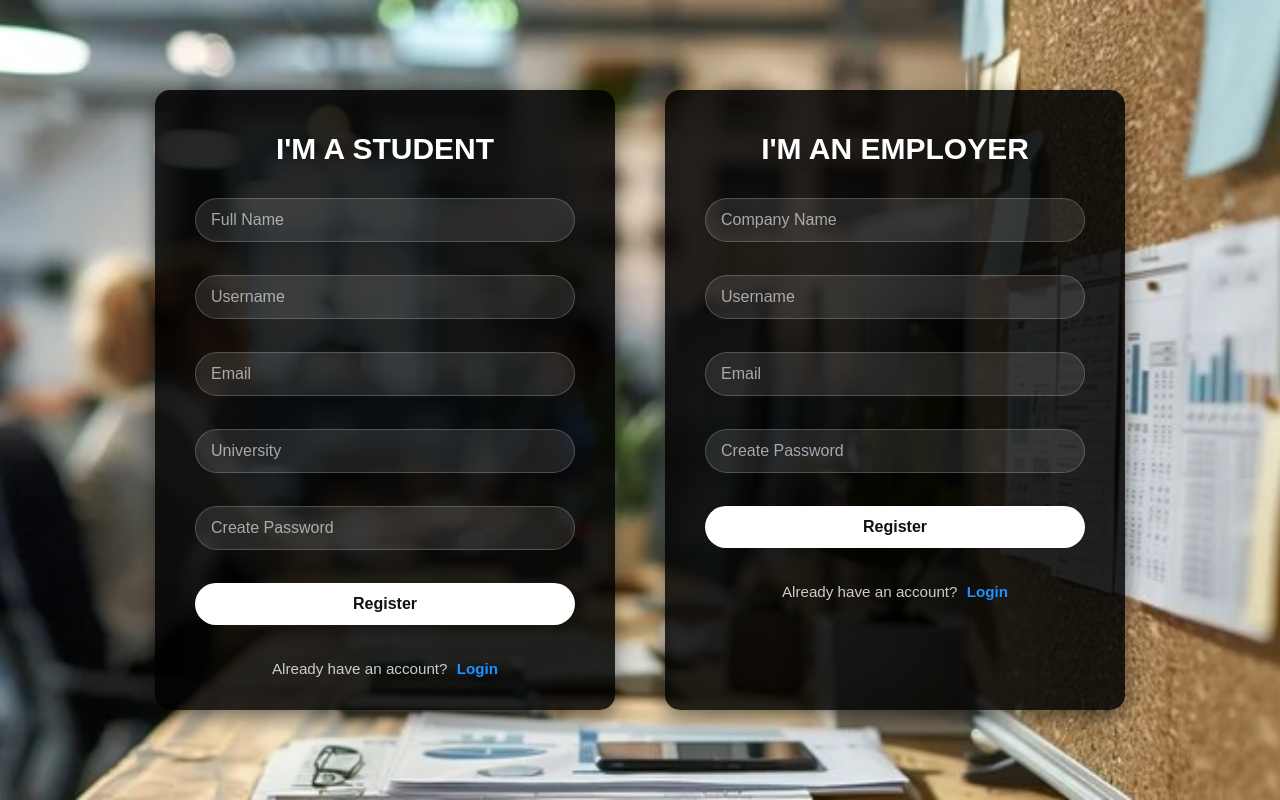
Auth and Register UI › shows register success message inside student card
In the field named "fullName": (385, 220) x1=195 y1=198 x2=575 y2=242, type "Test Student"
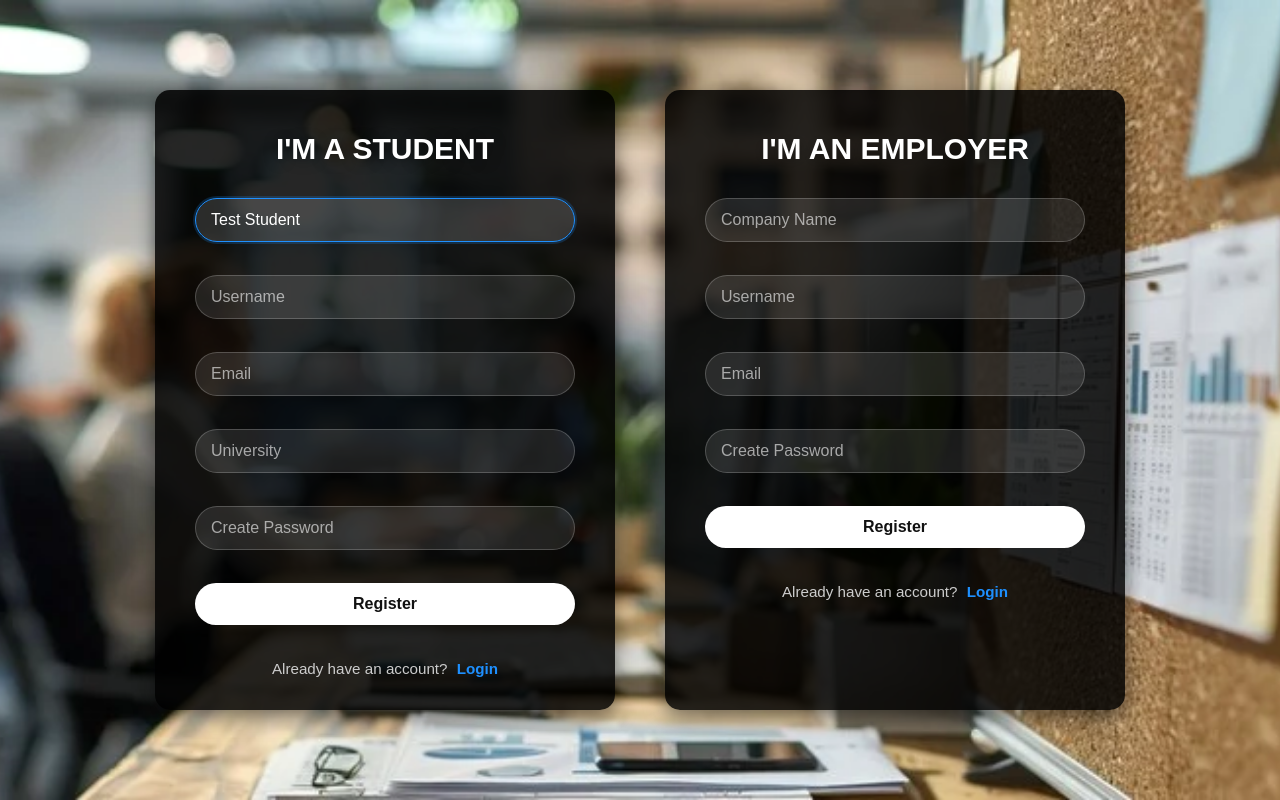
In the field named "username": (385, 297) x1=195 y1=275 x2=575 y2=319, type "student_cy"
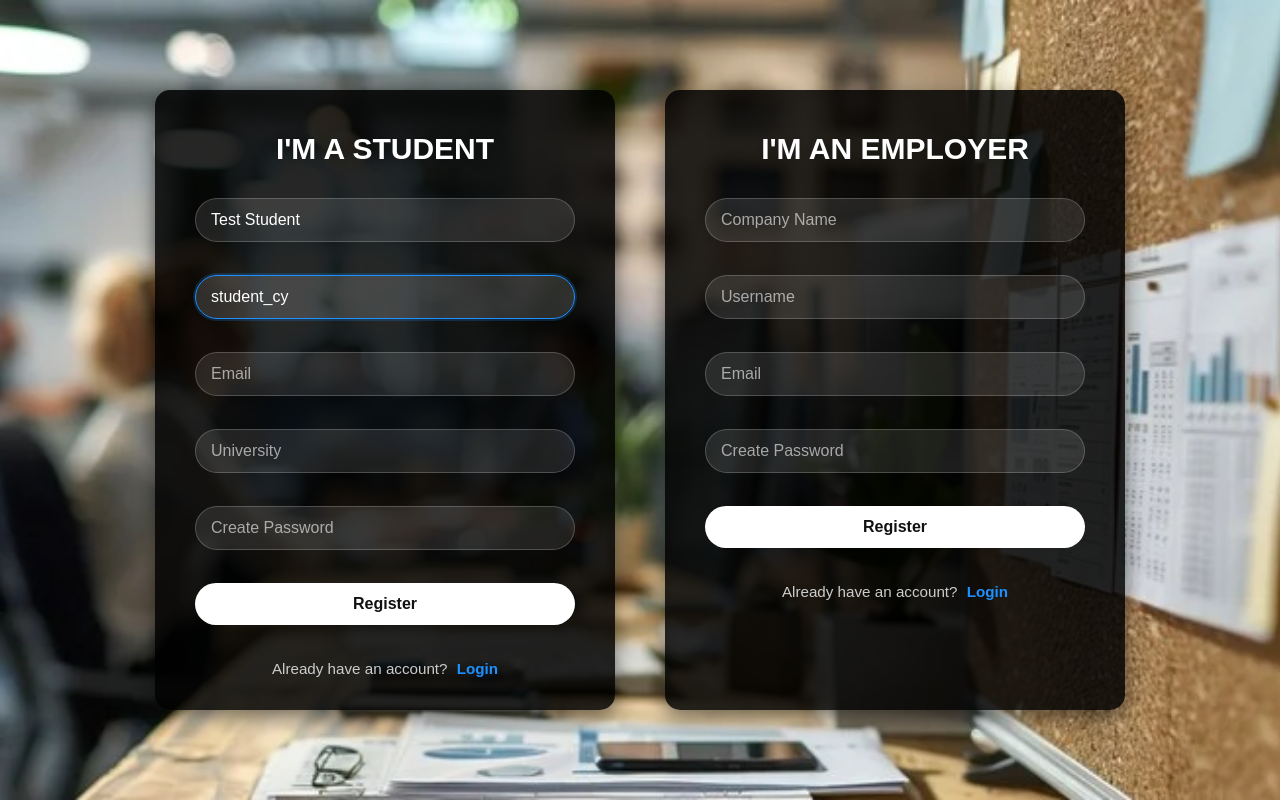
In the field named "email": (385, 374) x1=195 y1=352 x2=575 y2=396, type "student_cy@example.com"
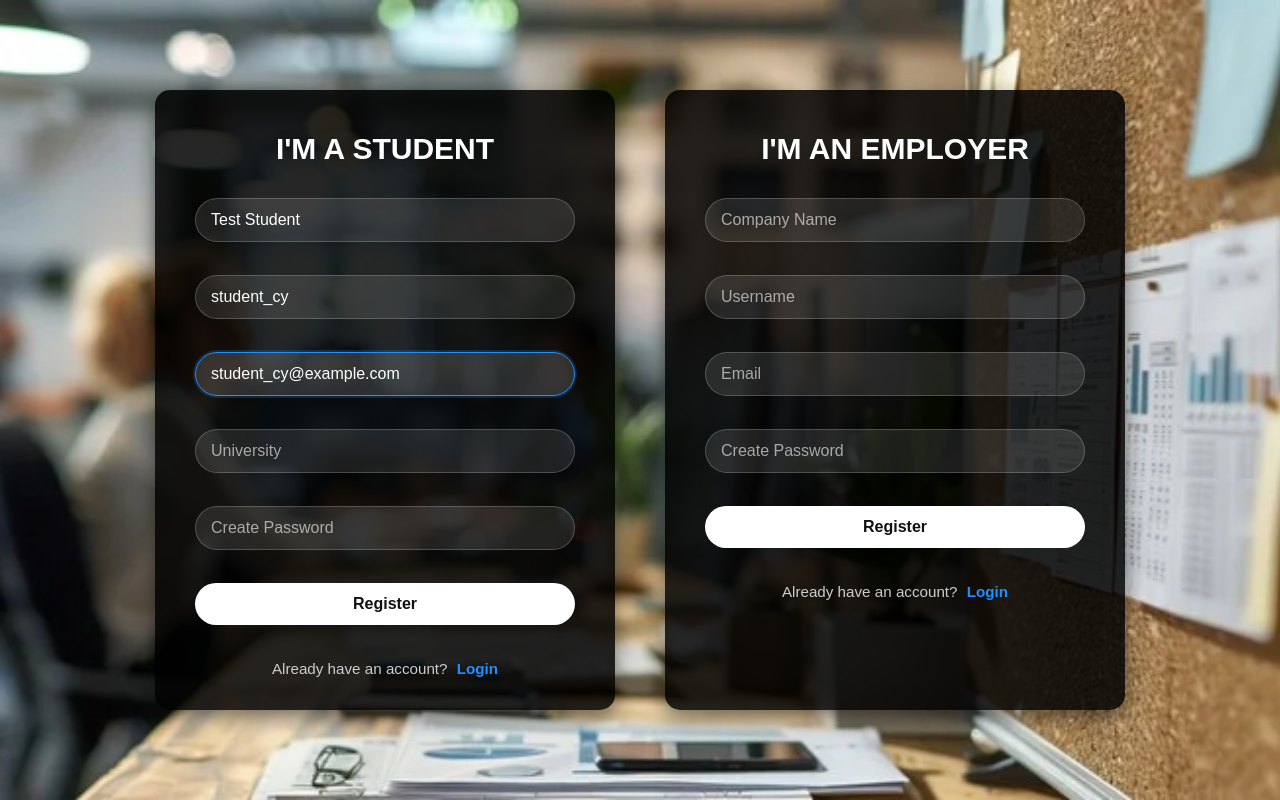
In the field named "university": (385, 451) x1=195 y1=429 x2=575 y2=473, type "TU"
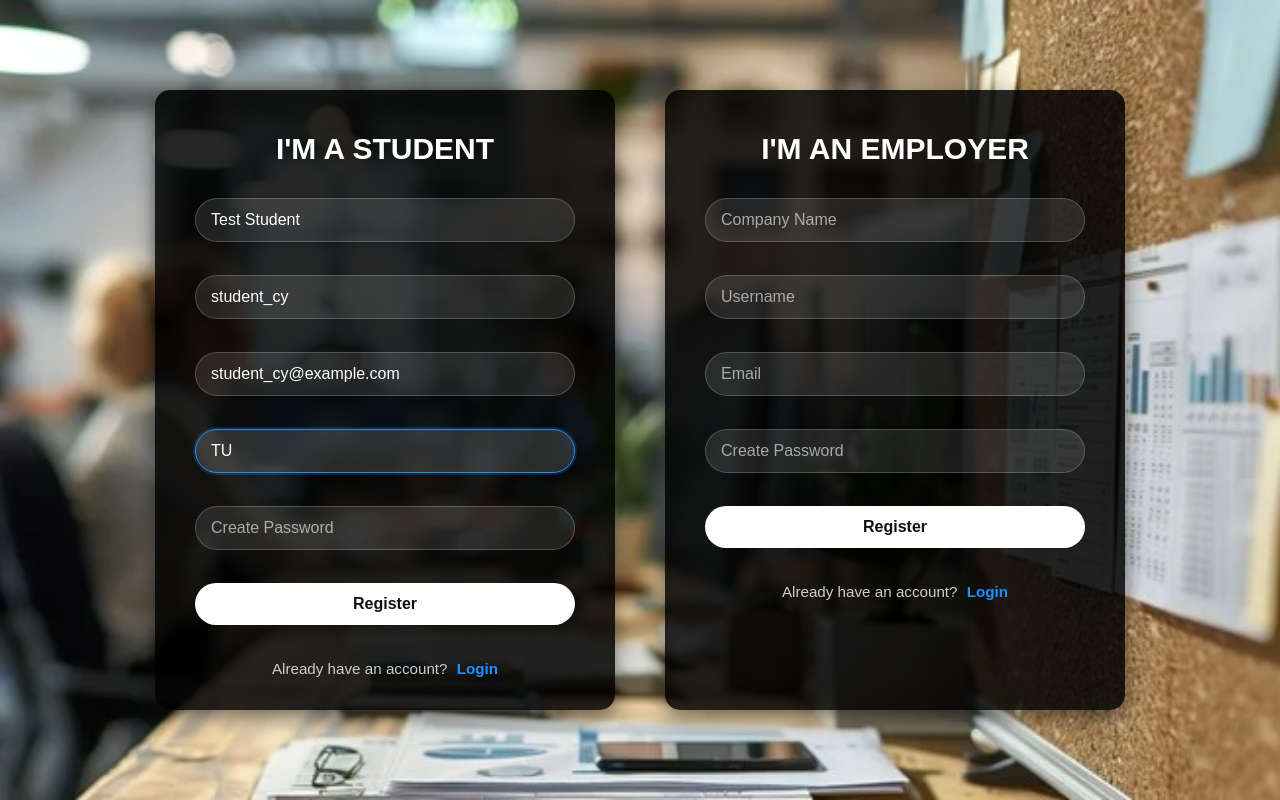
In the password field named "password": (385, 528) x1=195 y1=506 x2=575 y2=550, type "password123"
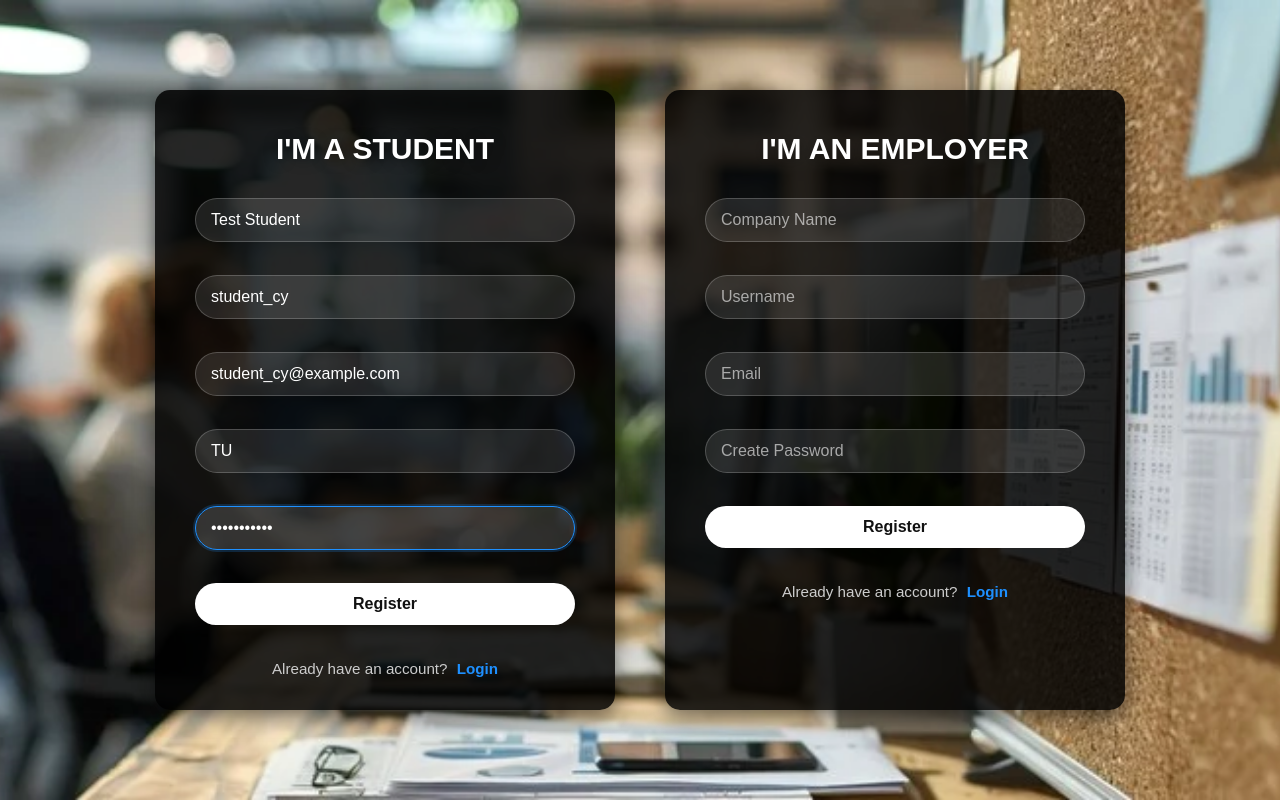
Click the 2nd button "Register": (385, 604) x1=195 y1=583 x2=575 y2=625
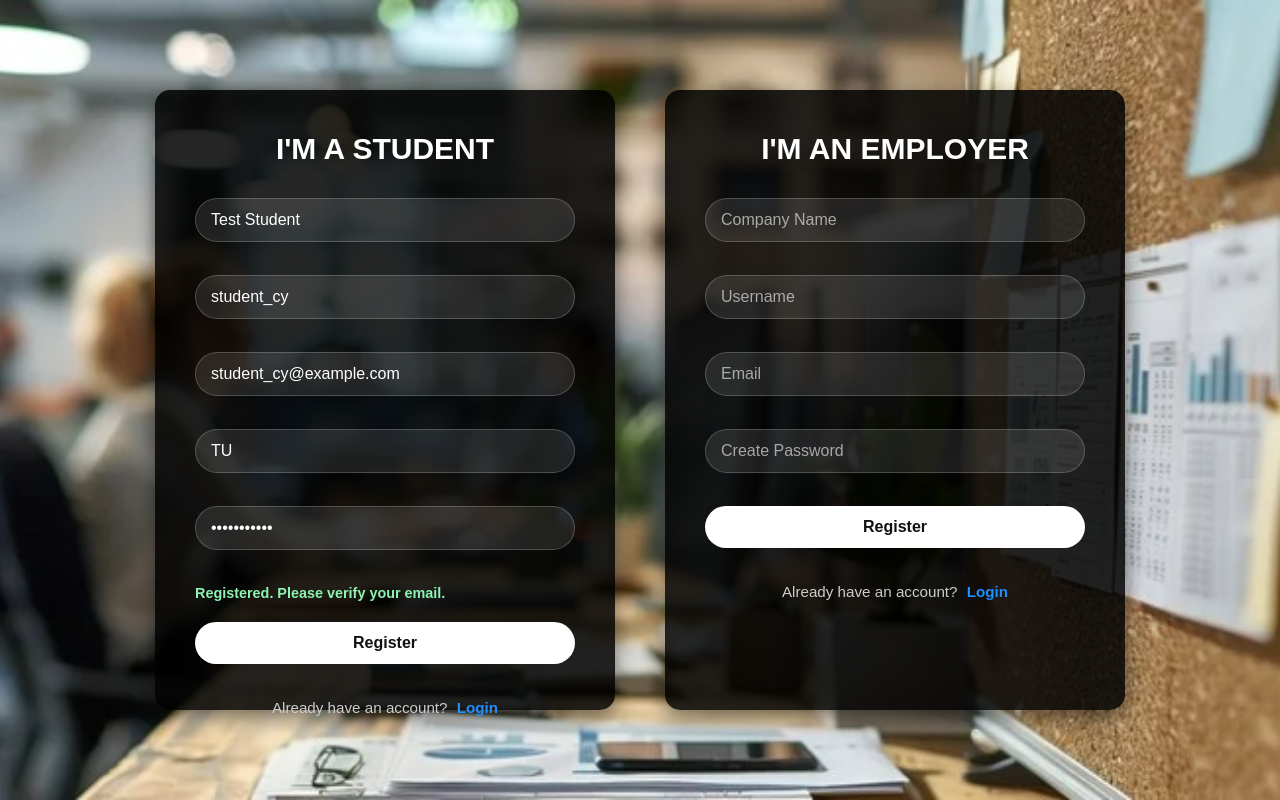
Now the text "Registered. Please verify your email." is shown, box x1=195 y1=584 x2=445 y2=600
